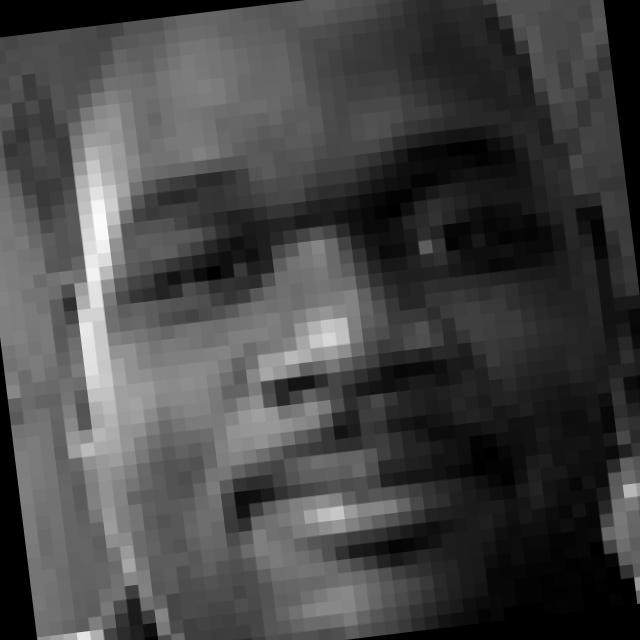neutral: (97, 112, 586, 594)
